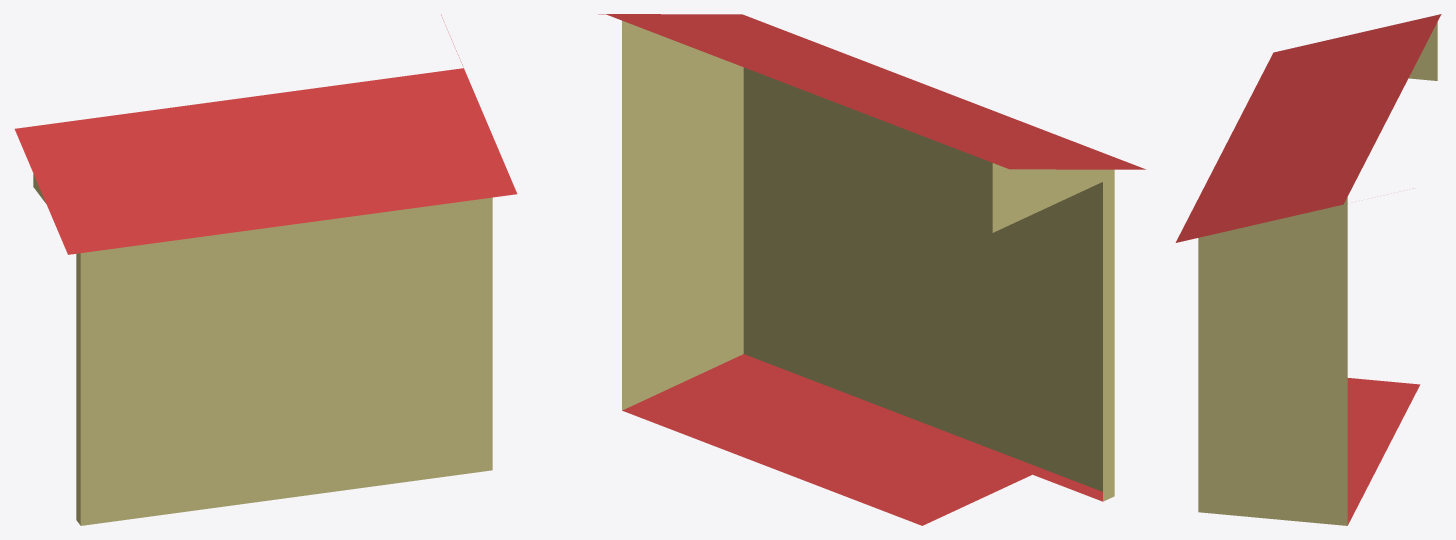
3 views of the same model, side by side, from view 1: azimuth 30°, elevation 25°; view 2: azimuth 150°, elevation 25°; view 3: azimuth 270°, elevation 25° (orthographic). The views are drawn at different scales.
Bounding box in the file's own units: 13.07 × 6.91 × 10.1.
